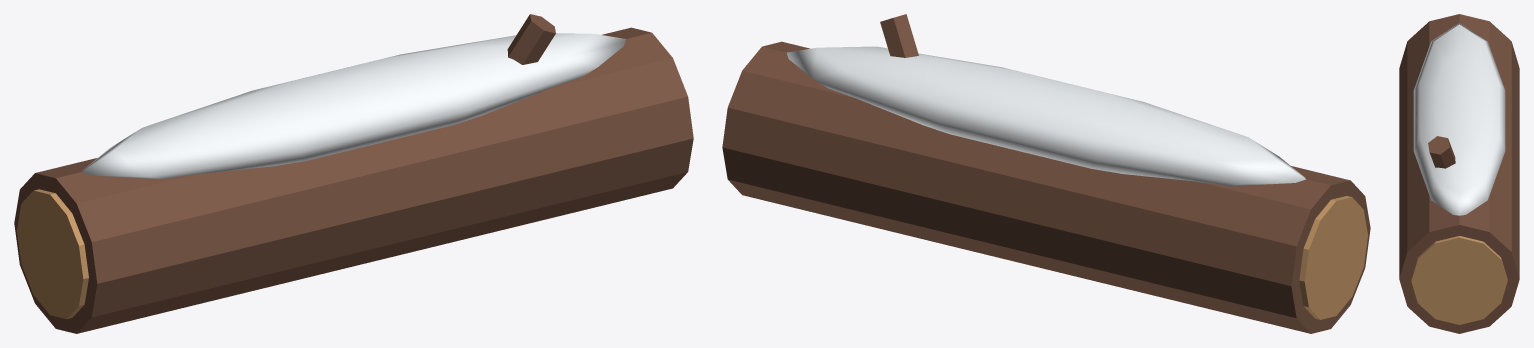
File: alpine-snow-village-fallen-snowy-log-43983d0d__19801.glb
3 renders of one model, left to right at view 1: azimuth 30°, elevation 25°; view 2: azimuth 150°, elevation 25°; view 3: azimuth 270°, elevation 25°, orthographic. The views are drawn at different scales.
Parts seen in each view (by area): view 1: fallen-snowy-log-wood, fallen-snowy-log-snow, fallen-snowy-log-oak; view 2: fallen-snowy-log-wood, fallen-snowy-log-snow, fallen-snowy-log-oak; view 3: fallen-snowy-log-wood, fallen-snowy-log-snow, fallen-snowy-log-oak.
Boxes of the visible parts, x1,y1,x2,y2 form: fallen-snowy-log-wood: (14, 14, 693, 333); fallen-snowy-log-snow: (82, 33, 626, 179); fallen-snowy-log-oak: (17, 189, 88, 319); fallen-snowy-log-wood: (722, 14, 1370, 333); fallen-snowy-log-snow: (787, 46, 1305, 186); fallen-snowy-log-oak: (1299, 196, 1367, 319); fallen-snowy-log-wood: (1399, 14, 1519, 333); fallen-snowy-log-snow: (1413, 23, 1505, 215); fallen-snowy-log-oak: (1411, 236, 1507, 324).
Size of the model in its own units: 2.95 by 0.9609 by 0.6999.
